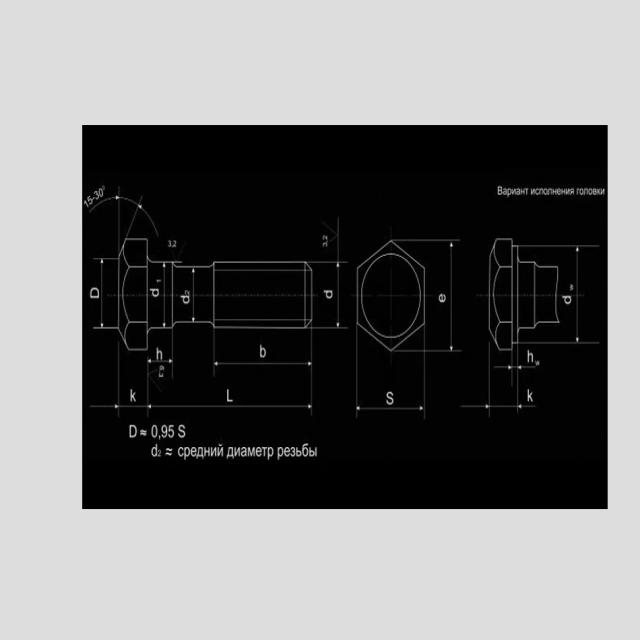marking_line: (146, 351, 315, 414), (461, 352, 537, 419), (354, 352, 427, 419), (213, 330, 314, 377), (560, 244, 600, 345), (426, 239, 461, 354), (90, 352, 152, 416), (88, 185, 160, 239), (313, 261, 348, 331), (89, 342, 122, 416), (93, 257, 117, 330), (493, 352, 537, 387), (146, 353, 174, 380), (162, 263, 166, 327), (192, 269, 196, 322)
numeric: (385, 391, 398, 406), (258, 342, 267, 359), (437, 289, 447, 304), (226, 388, 234, 404), (178, 423, 186, 439), (130, 386, 137, 404), (128, 424, 137, 438), (179, 294, 191, 304), (150, 424, 158, 439), (527, 387, 534, 404), (155, 346, 163, 360), (89, 288, 99, 299), (323, 290, 334, 300), (168, 424, 175, 439), (562, 294, 572, 304), (150, 287, 159, 298), (527, 350, 534, 363), (161, 424, 167, 439), (151, 444, 157, 458), (94, 189, 99, 200), (568, 282, 574, 291), (98, 187, 103, 197), (88, 196, 93, 205), (168, 239, 172, 249), (158, 449, 162, 459), (322, 235, 328, 241), (84, 199, 88, 208), (156, 278, 162, 284), (159, 365, 165, 371), (323, 240, 328, 247), (184, 290, 190, 295), (158, 373, 164, 378), (173, 240, 177, 247)
special_symbol: (324, 219, 337, 246), (165, 445, 174, 457), (139, 428, 148, 436), (102, 184, 106, 191), (158, 435, 161, 441)
